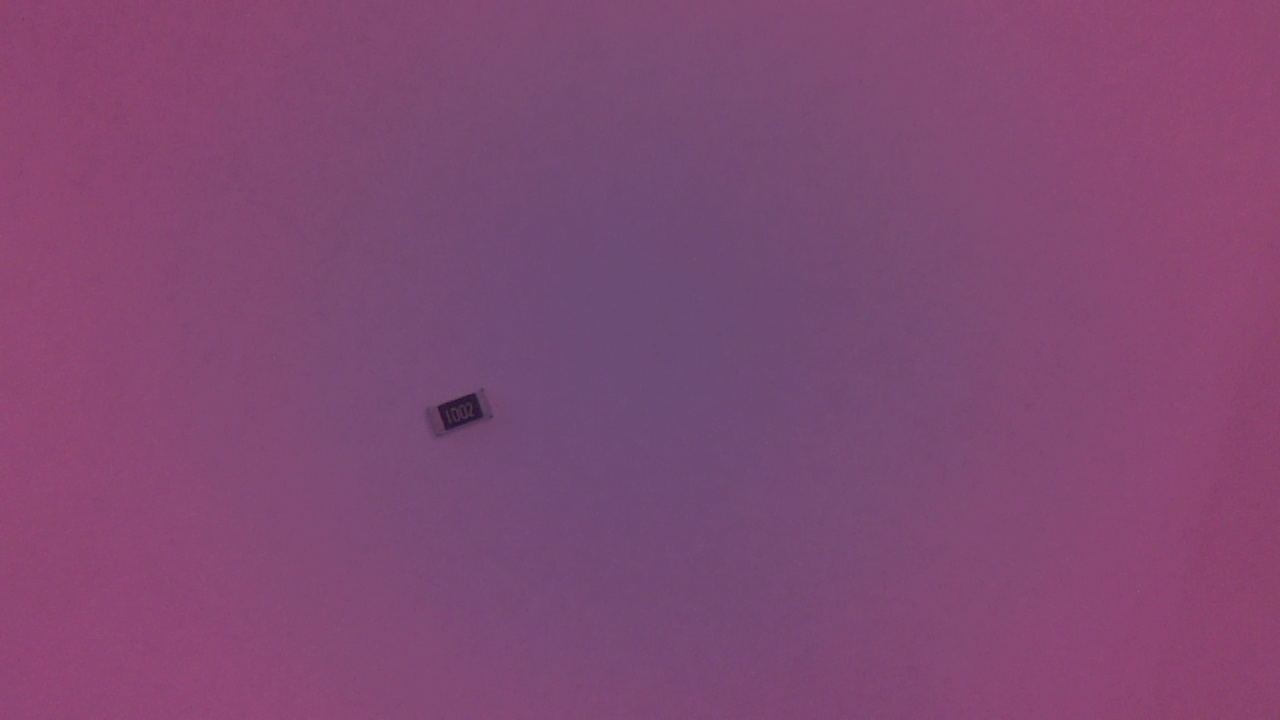Resistor: (426, 389, 505, 447)
